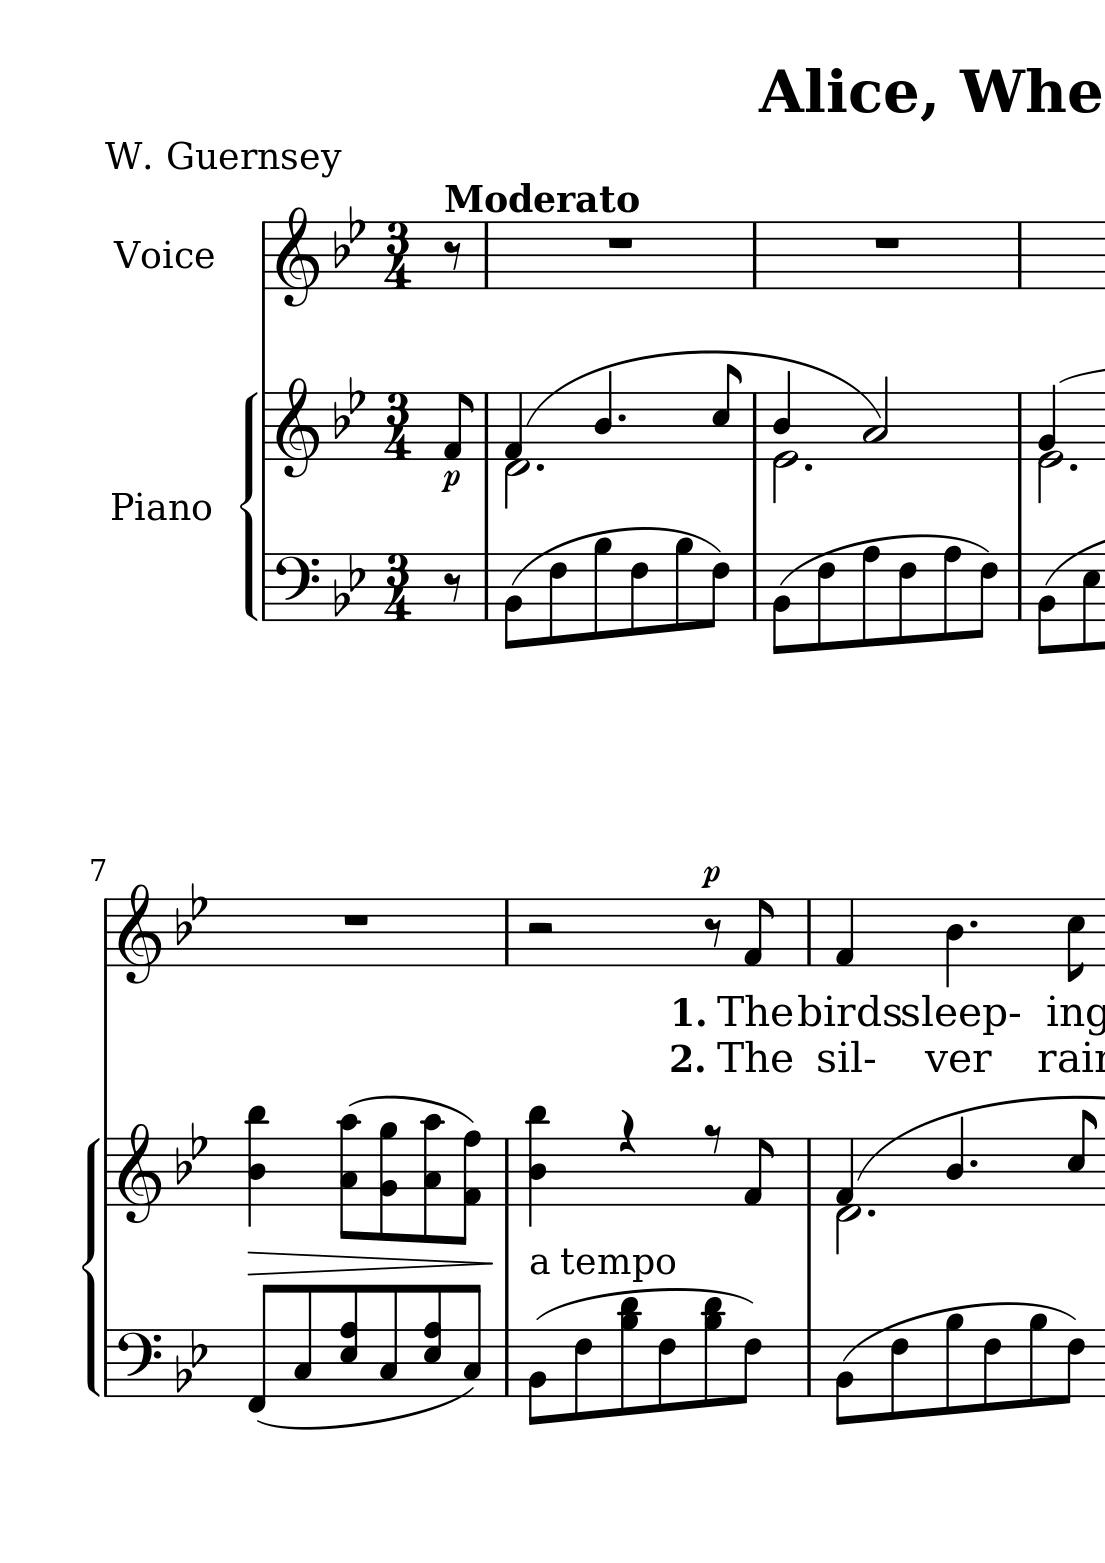2_3: (861, 374, 890, 463)
3: (384, 551, 413, 588), (384, 219, 413, 255), (383, 390, 411, 426)
4: (381, 254, 414, 289), (381, 426, 413, 460), (381, 587, 413, 621)
4_1: (832, 896, 855, 969), (835, 1136, 857, 1205)
4_4: (592, 370, 613, 460), (944, 1115, 964, 1208), (944, 897, 964, 989)
7: (88, 855, 106, 885)
8_-1: (242, 1280, 276, 1415)
8_1: (440, 390, 474, 460), (741, 896, 774, 967), (741, 1137, 773, 1207)
8_1_8: (454, 1129, 482, 1246)
8_2: (1034, 550, 1056, 657), (770, 551, 792, 655), (832, 1327, 854, 1428), (525, 1327, 547, 1427), (501, 552, 521, 651)
8_2_9: (378, 1121, 399, 1243)
8_3: (460, 1280, 484, 1399), (289, 1281, 313, 1399), (377, 1280, 399, 1399)
8_3_10: (337, 1113, 361, 1241), (420, 1115, 442, 1246)
8_4_11: (524, 1103, 550, 1228), (244, 1104, 269, 1229)
8_5: (710, 365, 743, 459), (1066, 1109, 1095, 1209), (1079, 551, 1101, 653), (1064, 896, 1086, 983)
8_5_8: (338, 1283, 361, 1398), (421, 1282, 442, 1398)
8_6: (970, 552, 999, 640), (813, 551, 836, 653), (570, 1327, 593, 1423), (1058, 1327, 1086, 1406), (703, 552, 731, 630), (895, 552, 917, 646), (734, 1327, 761, 1406), (887, 1327, 909, 1423), (545, 552, 567, 647), (628, 552, 649, 639), (981, 1327, 1002, 1414), (655, 1327, 676, 1414)
8_8: (857, 545, 880, 648), (939, 545, 961, 642)
8_9: (590, 536, 612, 641), (942, 1312, 964, 1417), (1026, 1312, 1048, 1410), (672, 536, 692, 631)
8_9_11: (615, 1295, 639, 1417), (700, 1294, 725, 1409)
B_F: (331, 203, 367, 270), (332, 552, 366, 619), (175, 1327, 208, 1393), (173, 883, 208, 945)
Brace: (237, 391, 260, 625), (81, 1129, 100, 1398)
E_F: (332, 376, 367, 441), (173, 1121, 207, 1185)
Fclef: (115, 1327, 161, 1399), (273, 551, 319, 622)
Gclef: (273, 204, 320, 309), (116, 883, 163, 987), (116, 1122, 161, 1225), (274, 376, 318, 480)
Pno: (108, 490, 208, 523)
Rests1: (869, 233, 904, 254), (338, 909, 373, 929), (603, 233, 637, 251)
Rests2: (524, 918, 556, 939)
Rests4: (617, 1109, 637, 1154)
Rests8: (441, 238, 464, 274), (441, 570, 464, 606), (701, 1122, 724, 1156), (702, 915, 724, 950)
Single_barline: (1011, 552, 1028, 622), (497, 1329, 515, 1397), (477, 393, 495, 460), (1011, 393, 1028, 460), (477, 554, 495, 621), (497, 1138, 515, 1205), (497, 899, 515, 965), (800, 899, 818, 965), (255, 221, 271, 289), (256, 392, 273, 460), (746, 552, 763, 621), (746, 393, 763, 460), (801, 1138, 818, 1205), (99, 1137, 115, 1205), (801, 1329, 817, 1397), (477, 222, 493, 289), (746, 222, 762, 288), (1012, 222, 1027, 288), (98, 898, 112, 967), (99, 1330, 114, 1397), (257, 554, 271, 619)
TimeSig: (381, 392, 413, 460), (383, 221, 413, 291), (383, 552, 413, 621)
Vc: (110, 232, 216, 276)
dot: (1067, 459, 1081, 474), (615, 410, 628, 425), (966, 917, 979, 932), (967, 1156, 979, 1170), (865, 1205, 877, 1219), (535, 460, 545, 474), (802, 460, 813, 474)
p: (438, 469, 460, 496), (700, 863, 722, 890)
